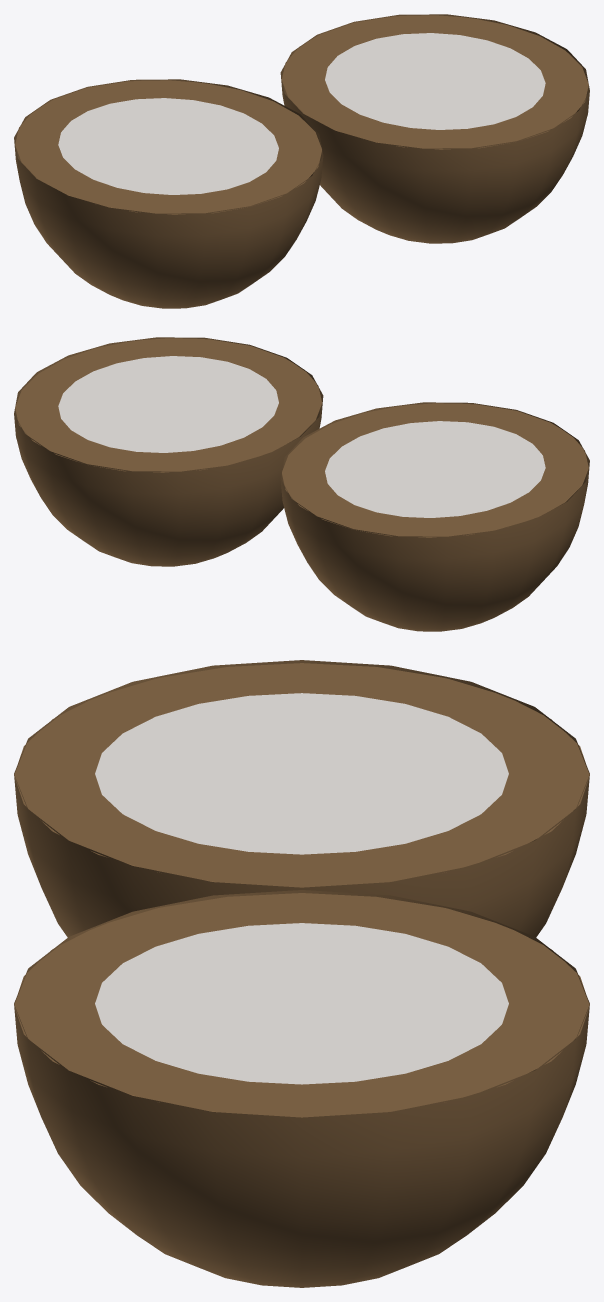
The model's file is Cracked_Coconut_v2.fbx.
The picture shows the model from 3 angles, top to bottom: view 1: azimuth 30°, elevation 25°; view 2: azimuth 150°, elevation 25°; view 3: azimuth 270°, elevation 25°; orthographic projection. The views are drawn at different scales.
Parts seen in each view (by area): view 1: pDisc5; view 2: pDisc5; view 3: pDisc5.
Boxes of the visible parts, x1,y1,x2,y2 form: pDisc5: [14, 14, 589, 308]; pDisc5: [14, 337, 589, 631]; pDisc5: [14, 660, 589, 1287].
Bounding box in the file's own units: 3.76 × 1 × 2.
